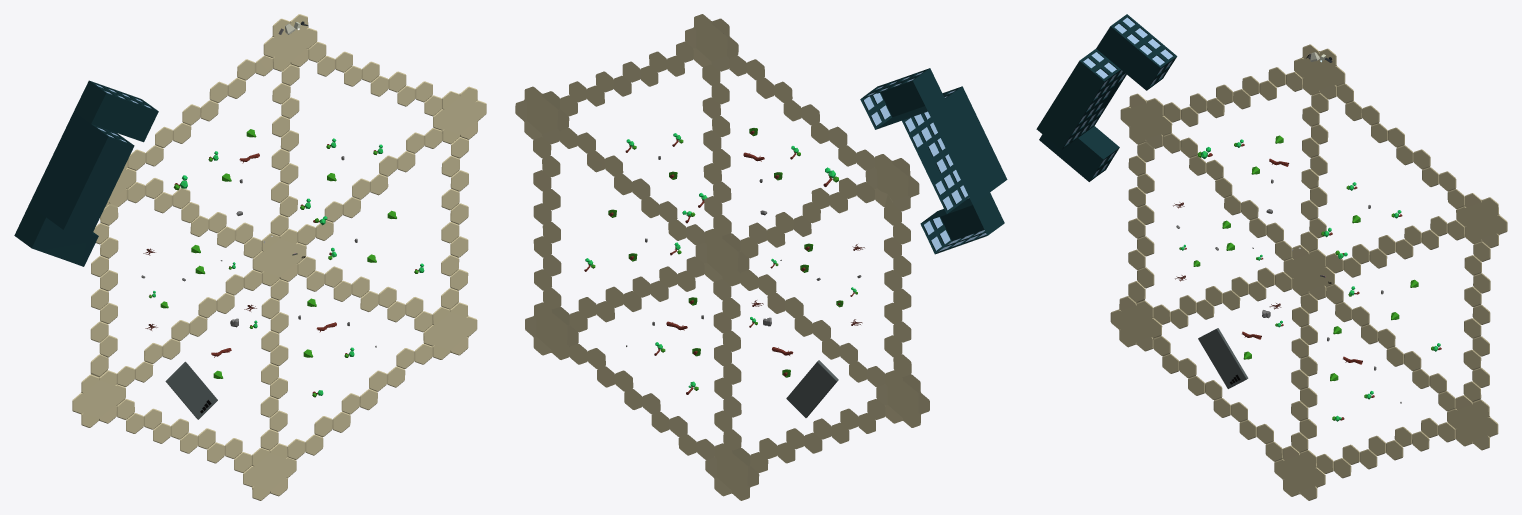
The picture shows the model from 3 angles, left to right: view 1: azimuth 30°, elevation 25°; view 2: azimuth 150°, elevation 25°; view 3: azimuth 330°, elevation 25°; orthographic projection. The views are drawn at different scales.
Parts seen in each view (by area): view 1: пол.003, stone2, подставкаКлавиатуры; view 2: пол.003, stone2, stone2.001, подставкаКлавиатуры; view 3: пол.003, stone2, подставкаКлавиатуры, stone2.001.
Part boxes in pixels (bbox=[...]): пол.003: bbox=[72, 14, 486, 500]; stone2: bbox=[14, 80, 158, 266]; подставкаКлавиатуры: bbox=[165, 361, 217, 419]; пол.003: bbox=[515, 14, 929, 500]; stone2: bbox=[860, 68, 1007, 254]; stone2.001: bbox=[864, 72, 986, 251]; подставкаКлавиатуры: bbox=[786, 360, 838, 417]; пол.003: bbox=[1110, 44, 1507, 500]; stone2: bbox=[1036, 14, 1177, 181]; подставкаКлавиатуры: bbox=[1198, 328, 1248, 388]; stone2.001: bbox=[1065, 17, 1172, 176].
Size of what is drawn, in the model's own units: 119 by 115 by 15.27.
